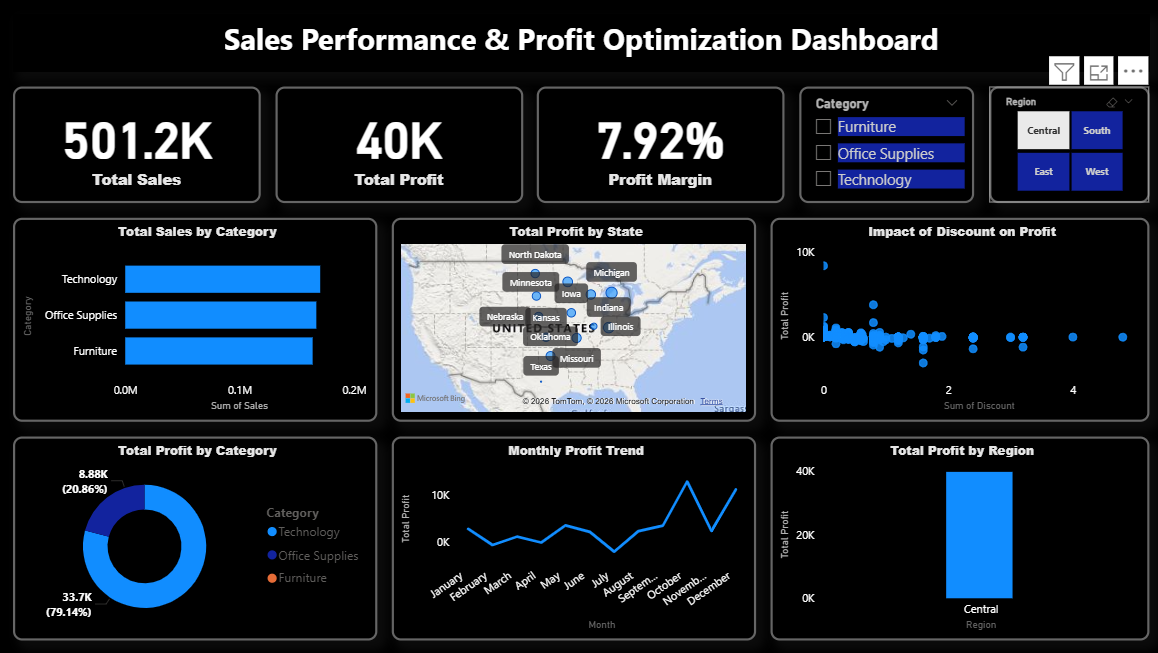

What the dashboard file says about the page in this screenshot:
{"tool":"powerbi","page":{"name":"Dashboard","canvas":[1280,720],"ordinal":0},"visuals":[{"type":"card","title":"Total Profit","fields":{"Values":["cleaned_data.Total Sales"]},"box":[16,96,272,128],"z":0},{"type":"clusteredBarChart","title":"Total Sales by Category","fields":{"Category":["cleaned_data.Category"],"Y":["Sum(cleaned_data.Sales)"]},"box":[16,240,400,224],"z":1000},{"type":"clusteredColumnChart","fields":{"Category":["cleaned_data.Region"],"Y":["cleaned_data.Total Profit"]},"box":[848,480,416,224],"z":2000},{"type":"lineChart","title":"Monthly Profit Trend","fields":{"Y":["cleaned_data.Total Profit"],"Category":["cleaned_data.Order Date.Variation.Date Hierarchy.Month"]},"box":[432,480,400,224],"z":3000},{"type":"card","title":"Total Profit","fields":{"Values":["cleaned_data.Total Profit"]},"box":[304,96,272,128],"z":4000},{"type":"card","title":"Total Profit","fields":{"Values":["cleaned_data.Profit Margin"]},"box":[592,96,272,128],"z":5000},{"type":"donutChart","fields":{"Category":["cleaned_data.Category"],"Y":["cleaned_data.Total Profit"]},"box":[16,480,400,224],"z":6000},{"type":"scatterChart","title":"Impact of Discount on Profit","fields":{"Category":["cleaned_data.Product Name"],"X":["Sum(cleaned_data.Discount)"],"Y":["cleaned_data.Total Profit"]},"box":[848,240,416,224],"z":7000},{"type":"slicer","fields":{"Values":["cleaned_data.Category"]},"box":[880,96,192,128],"z":8000},{"type":"slicer","fields":{"Values":["cleaned_data.Region"]},"box":[1088,96,176,128],"z":9000},{"type":"map","fields":{"Category":["cleaned_data.State"],"Size":["cleaned_data.Total Profit"]},"box":[432,240,400,224],"z":10000},{"type":"textbox","box":[16,16,1248,64],"z":11000}]}

Visuals, with their boxes in screenshot pixels (x1, y1, x2, y2), scaled from the page's 1280x720 canvas onto the 1158x653 screenshot:
"Total Profit" card: [14,87,261,203]
"Total Sales by Category" clusteredBarChart: [14,218,376,421]
clusteredColumnChart - cleaned_data.Region x cleaned_data.Total Profit: [767,435,1144,638]
"Monthly Profit Trend" lineChart: [391,435,753,638]
"Total Profit" card: [275,87,521,203]
"Total Profit" card: [536,87,782,203]
donutChart - cleaned_data.Category x cleaned_data.Total Profit: [14,435,376,638]
"Impact of Discount on Profit" scatterChart: [767,218,1144,421]
slicer - cleaned_data.Category: [796,87,970,203]
slicer - cleaned_data.Region: [984,87,1144,203]
map - cleaned_data.State x cleaned_data.Total Profit: [391,218,753,421]
textbox: [14,15,1144,73]
